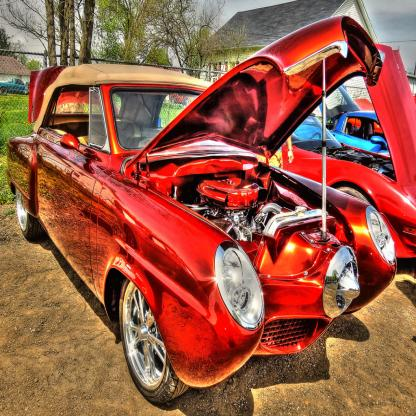Car: (5, 14, 399, 407), (282, 42, 416, 276), (321, 83, 393, 156)
